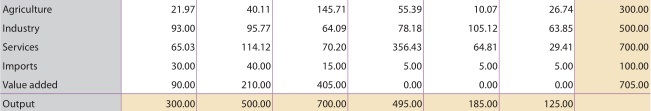column: (3, 1, 58, 111), (619, 1, 651, 111), (392, 1, 423, 111), (166, 1, 196, 111), (317, 1, 347, 111), (469, 1, 499, 111), (241, 2, 271, 111), (545, 1, 573, 111)
row: (1, 98, 651, 110), (1, 4, 651, 14), (1, 42, 651, 52), (1, 61, 651, 71), (1, 80, 651, 90), (1, 24, 651, 32)
